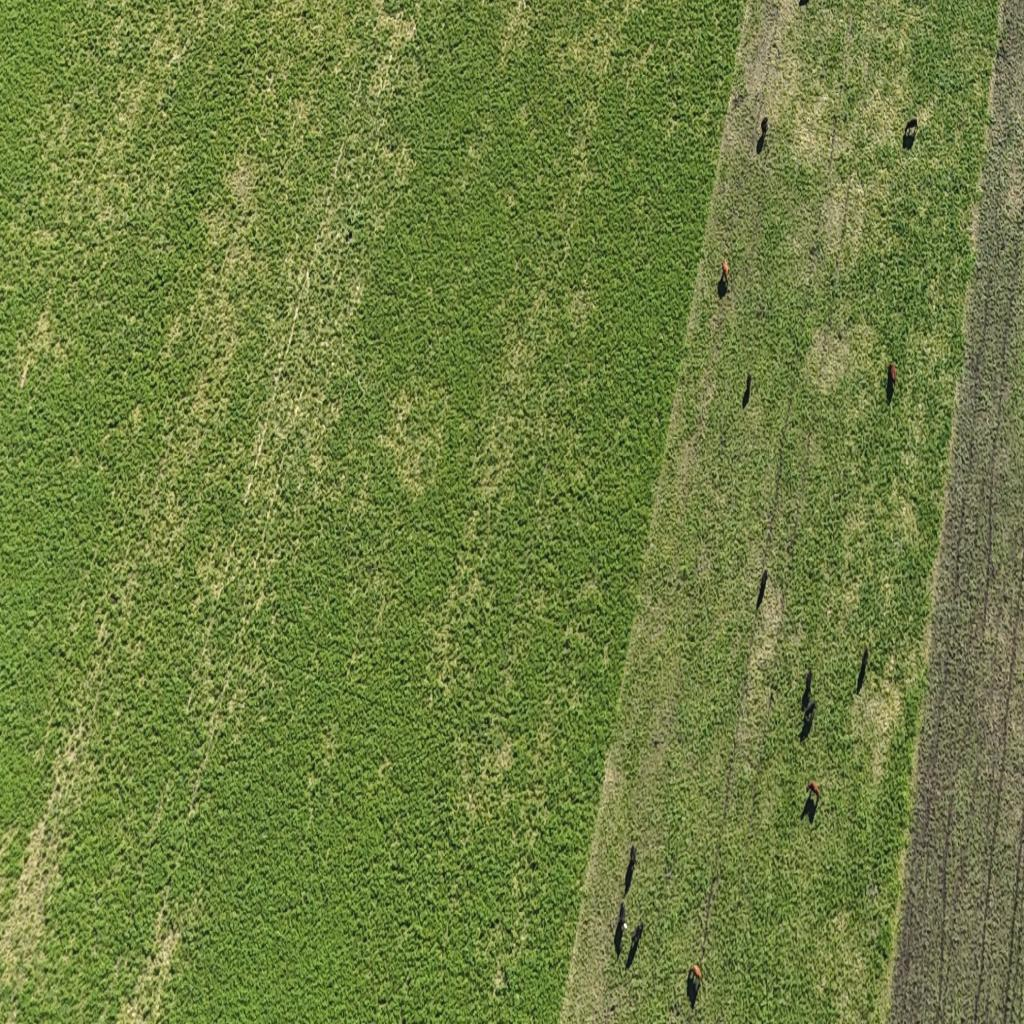cow: (758, 568, 768, 606), (804, 700, 816, 728), (861, 646, 869, 686), (632, 921, 644, 947), (687, 963, 701, 985), (758, 117, 768, 147), (887, 362, 897, 392), (806, 778, 820, 798), (804, 669, 812, 701), (904, 117, 918, 135), (618, 902, 626, 930), (722, 258, 729, 285), (630, 843, 636, 873), (747, 370, 751, 394)
